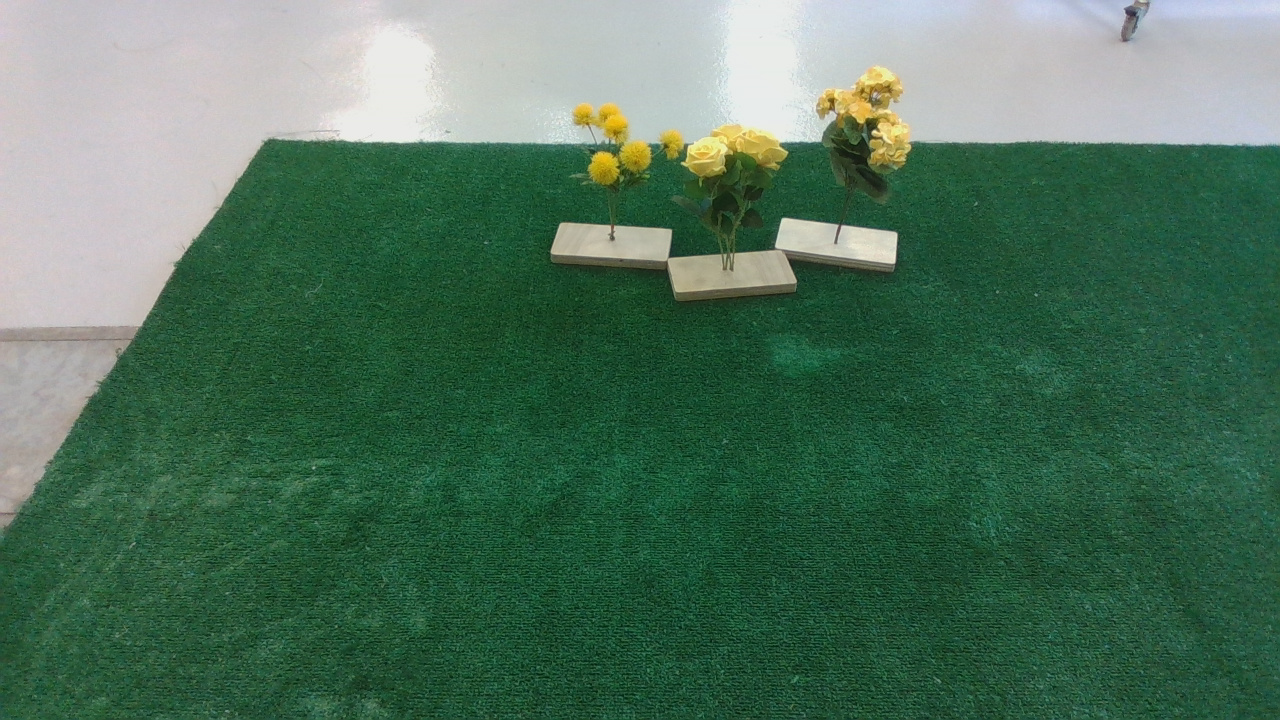dandelion: (569, 101, 685, 202)
geranium: (815, 67, 934, 214)
rose: (687, 117, 799, 255)
